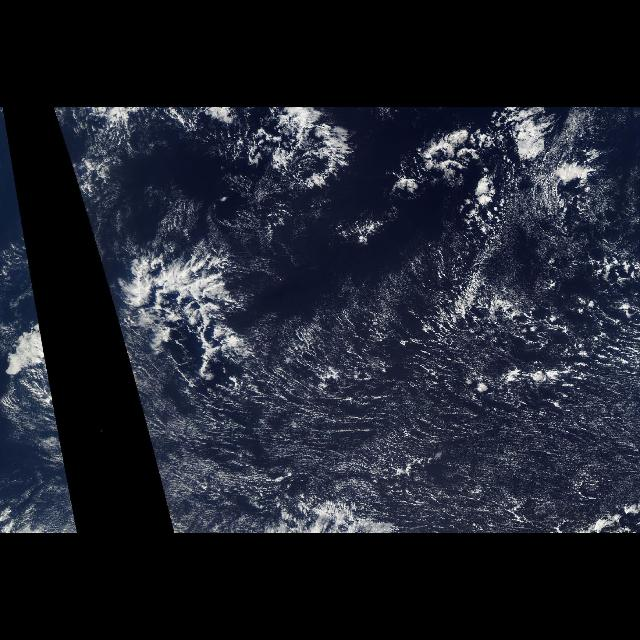Fish: (104, 231, 262, 389)
Sugar: (121, 109, 639, 533)
